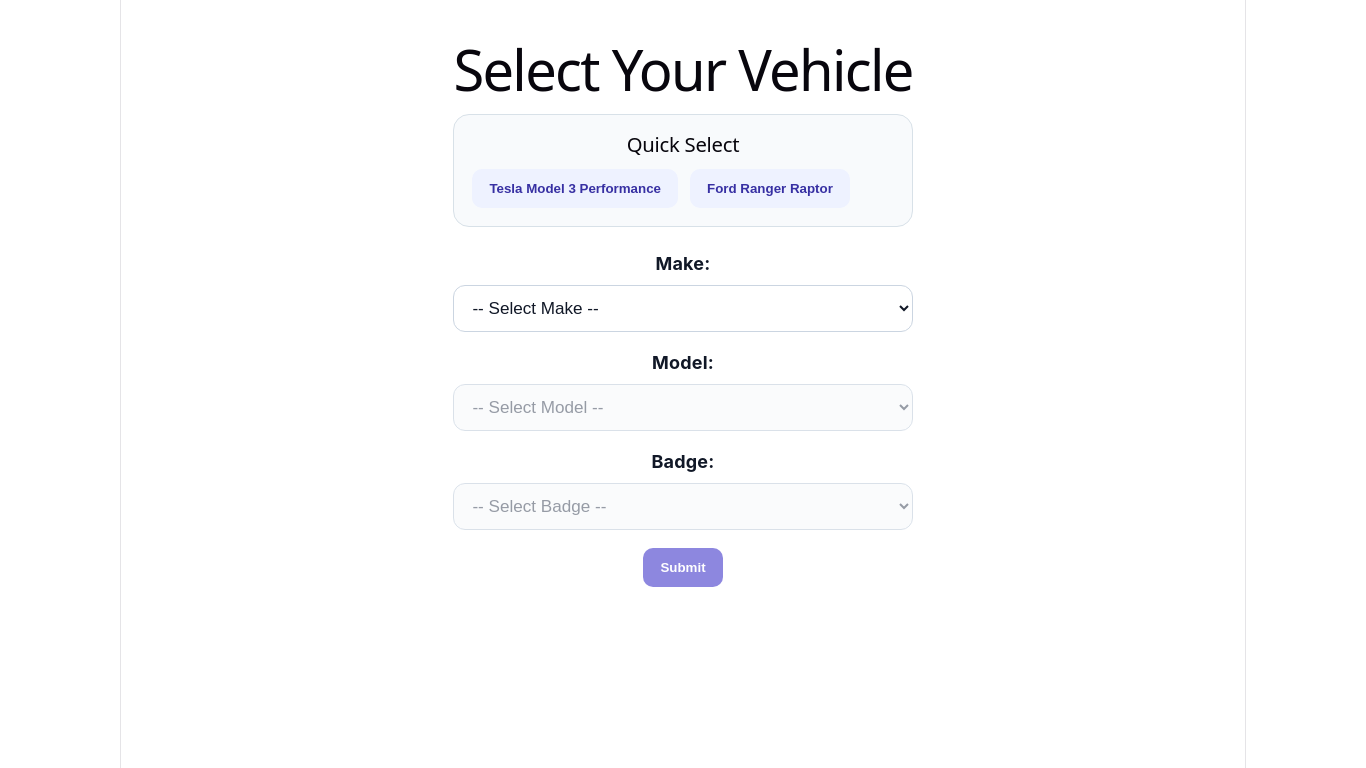
Test: App Component › enables model dropdown when make is selected
This screenshot has width=1366, height=768.
expect the dropdown labelled "Model:" is disabled: met, box top-left (453, 384), bottom-right (913, 431)
Step 1. Select "Ford" in the dropdown labelled "Make:" → (683, 309), box top-left (453, 285), bottom-right (913, 332)
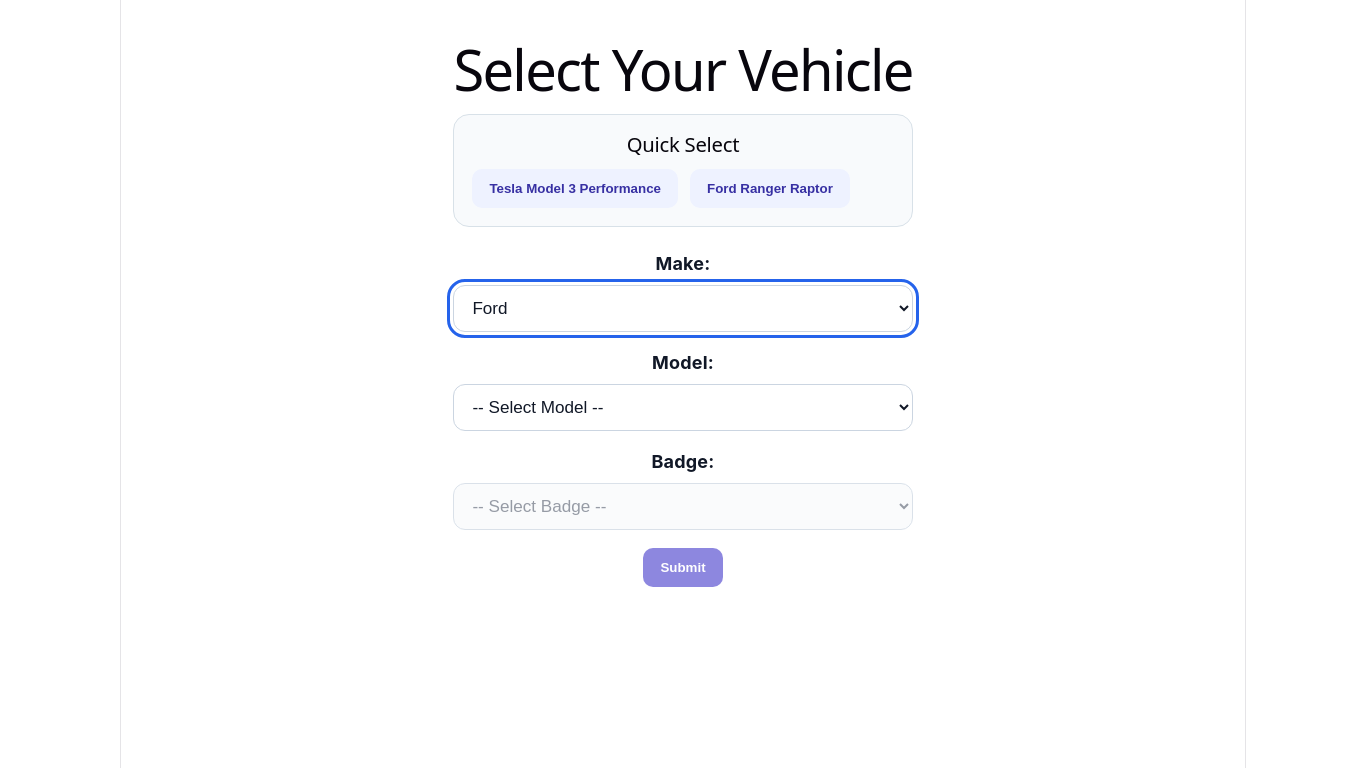
expect the dropdown labelled "Model:" is enabled: met, box top-left (453, 384), bottom-right (913, 431)
